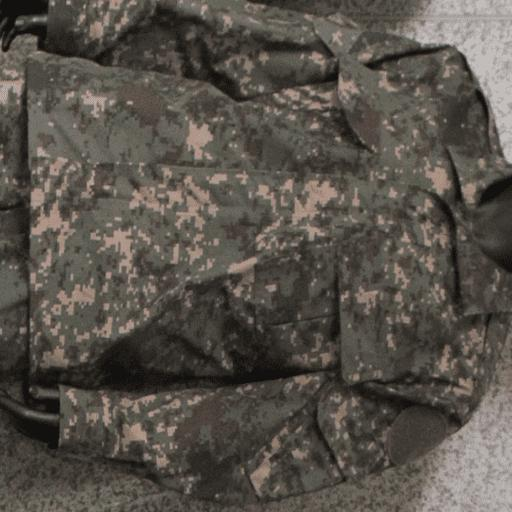korea army: (1, 0, 510, 506), (1, 0, 507, 502)
